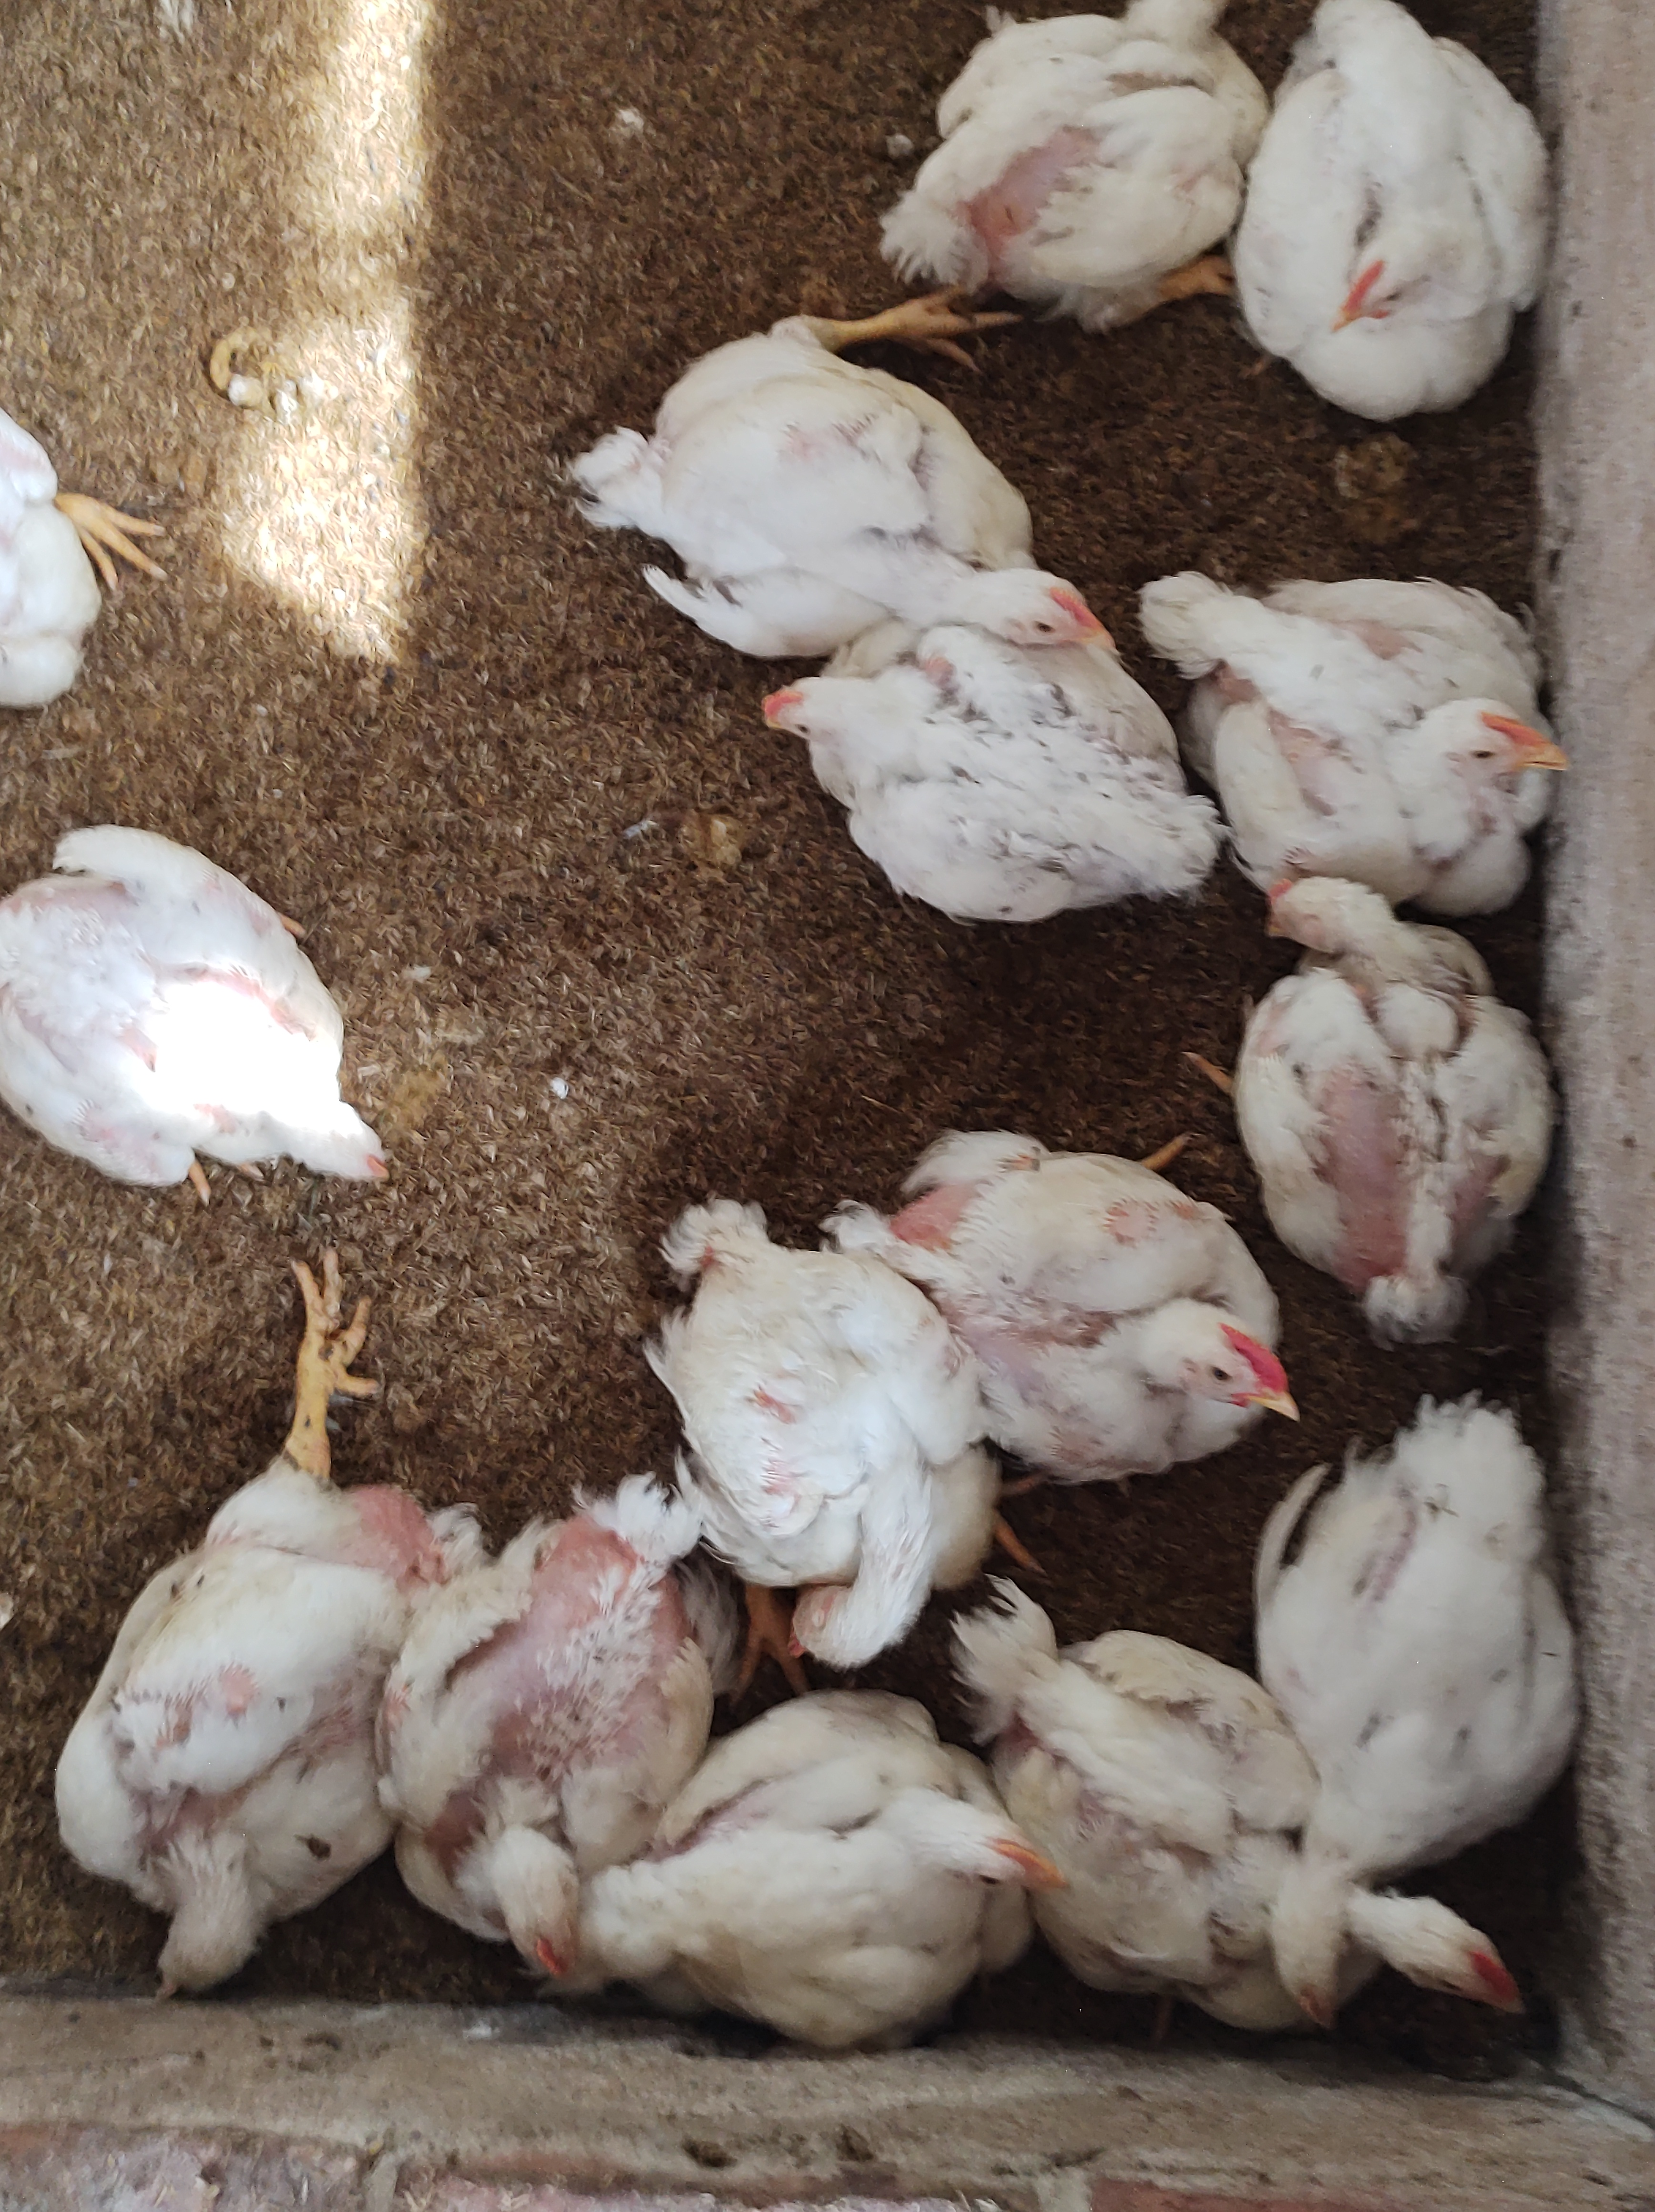Pollos: (111, 1449, 414, 2021), (396, 1497, 701, 1988), (1351, 1395, 1575, 2045), (617, 343, 1093, 630), (42, 838, 400, 1210), (645, 1706, 1080, 2007), (935, 1139, 1311, 1456), (761, 647, 1206, 911), (1253, 7, 1549, 402), (1154, 579, 1568, 852), (664, 1223, 932, 1638), (1090, 1649, 1358, 2024), (1241, 857, 1509, 1226), (880, 0, 1231, 278)
